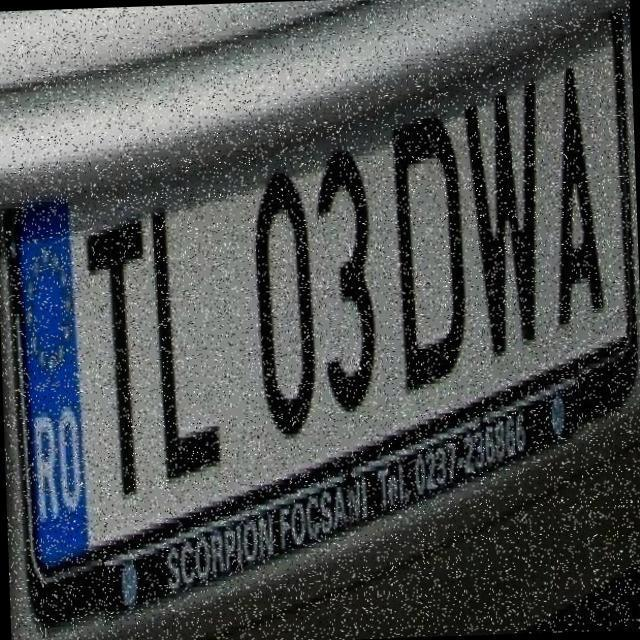License Plate: (0, 31, 640, 634)
